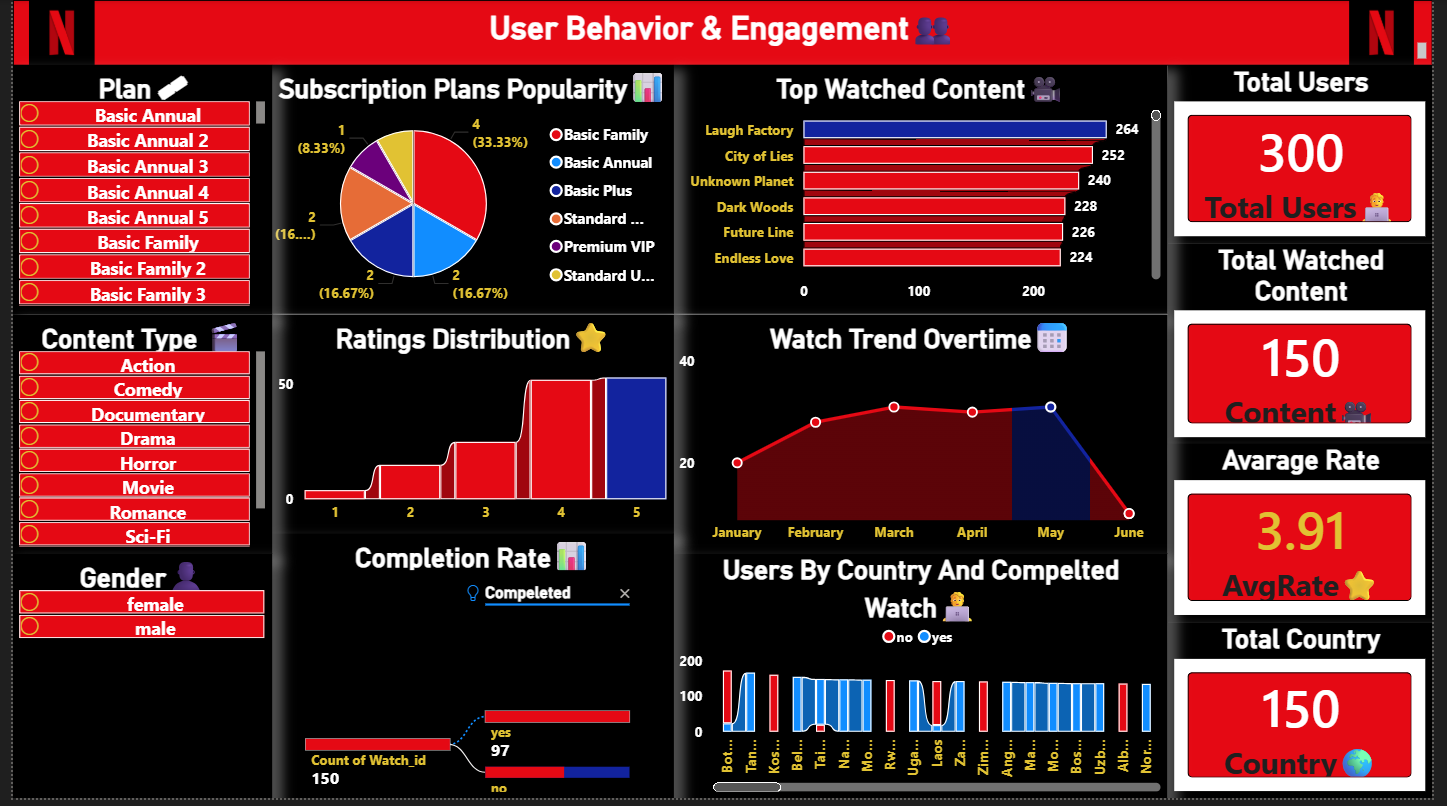

This screenshot's page, from the dashboard's own definition file:
{"tool":"powerbi","page":{"name":"User Behaviour Anaylsis","canvas":[1280,720],"ordinal":2},"visuals":[{"type":"textbox","title":" User Behavior & Engagement👥 ","box":[0,0,1280.3,59],"z":0},{"type":"image","box":[0,0,87.8,59],"z":1000},{"type":"image","box":[1188.3,0,91.9,59],"z":2000},{"type":"cardVisual","title":"Total Users","fields":{"Data":["Users.User_id"]},"box":[1041.5,59,238.8,160.5],"z":3000},{"type":"cardVisual","title":"Total Watched Content","fields":{"Data":["Watch_history.Watch_id"]},"box":[1041.5,219.6,238.8,181.1],"z":4000},{"type":"cardVisual","title":"Avarage Rate","fields":{"Data":["Rating.Rate_score"]},"box":[1041.5,400.7,238.8,160.5],"z":5000},{"type":"cardVisual","title":"Total Country","fields":{"Data":["Country.Country_id"]},"box":[1041.5,561.2,238.8,159.2],"z":6000},{"type":"barChart","title":"Top Watched Content🎥","fields":{"Category":["Content.Title"],"Y":["Watch_history.Watch_id"]},"box":[595.5,59,446,223.7],"z":7000},{"type":"lineChart","title":"Watch Trend Overtime📅","fields":{"Category":["Watch_history.Watch_date.Variation.Date Hierarchy.Month"],"Y":["Watch_history.Watch_id"]},"box":[595.5,284,446,215.4],"z":8000},{"type":"ribbonChart","title":"Users By Country And Compelted Watch🧑💻","fields":{"Category":["Country.Country_name"],"Y":["Watch_history.user_id"],"Series":["Watch_history.Compeleted"]},"box":[595.5,499.5,446,220.9],"z":9000},{"type":"pieChart","title":"Subscription Plans Popularity📊","fields":{"Category":["Supscription_plan.Plan_name"],"Y":["Users.User_id"]},"box":[233.3,59,362.3,223.7],"z":10000},{"type":"columnChart","title":"Ratings Distribution⭐","fields":{"Category":["Rating.Rate_score"],"Y":["Rating.Rating_id"]},"box":[233.3,284,362.3,197.6],"z":11000},{"type":"decompositionTreeVisual","title":"Completion Rate📊","fields":{"ExplainBy":["Watch_history.Compeleted"],"Analyze":["Watch_history.Watch_id"]},"box":[233.3,481.6,362.3,238.8],"z":12000},{"type":"listSlicer","title":"Plan 🎟","fields":{"Values":["Supscription_plan.Plan_name"]},"box":[0,59,233.3,225],"z":13000},{"type":"listSlicer","title":"Content Type 🎬","fields":{"Values":["Content.Type"]},"box":[0,284,233.3,215.4],"z":14000},{"type":"listSlicer","title":"Gender👤","fields":{"Values":["Users.Gender"]},"box":[0,499.5,233.3,220.9],"z":15000}]}

Visuals, with their boxes in screenshot pixels (x1, y1, x2, y2), scaled from the page's 1280x720 canvas onto the 1447x806 screenshot:
" User Behavior & Engagement👥 " textbox: (x1=0, y1=0, x2=1446, y2=66)
image: (x1=0, y1=0, x2=99, y2=66)
image: (x1=1343, y1=0, x2=1446, y2=66)
"Total Users" cardVisual: (x1=1177, y1=66, x2=1446, y2=246)
"Total Watched Content" cardVisual: (x1=1177, y1=246, x2=1446, y2=449)
"Avarage Rate" cardVisual: (x1=1177, y1=449, x2=1446, y2=628)
"Total Country" cardVisual: (x1=1177, y1=628, x2=1446, y2=805)
"Top Watched Content🎥" barChart: (x1=673, y1=66, x2=1177, y2=316)
"Watch Trend Overtime📅" lineChart: (x1=673, y1=318, x2=1177, y2=559)
"Users By Country And Compelted Watch🧑💻" ribbonChart: (x1=673, y1=559, x2=1177, y2=805)
"Subscription Plans Popularity📊" pieChart: (x1=264, y1=66, x2=673, y2=316)
"Ratings Distribution⭐" columnChart: (x1=264, y1=318, x2=673, y2=539)
"Completion Rate📊" decompositionTreeVisual: (x1=264, y1=539, x2=673, y2=805)
"Plan 🎟" listSlicer: (x1=0, y1=66, x2=264, y2=318)
"Content Type 🎬" listSlicer: (x1=0, y1=318, x2=264, y2=559)
"Gender👤" listSlicer: (x1=0, y1=559, x2=264, y2=805)
